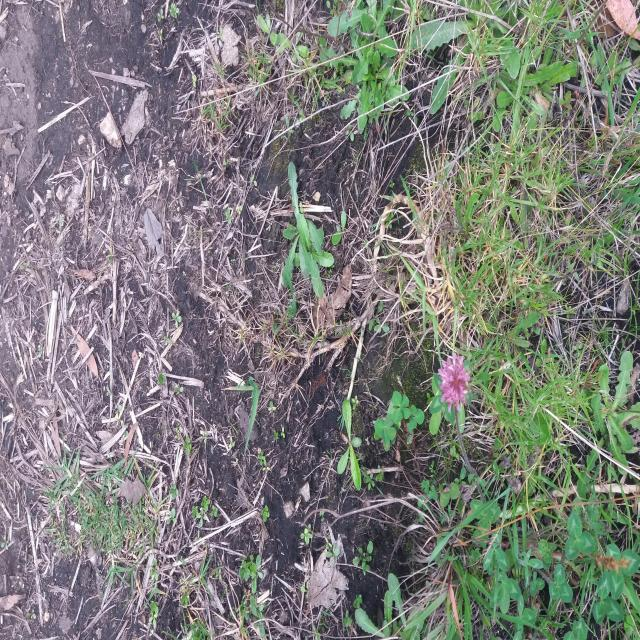Four Leaf Clover: (386, 414, 446, 546), (392, 391, 411, 424)
